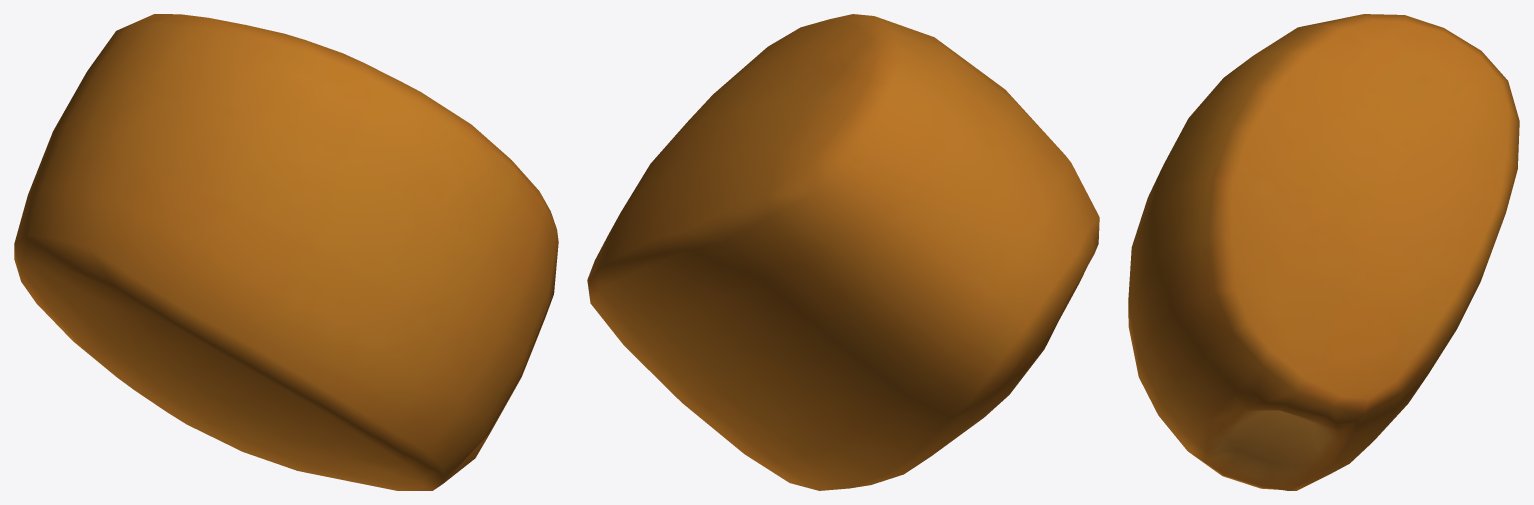
File: ref_bffriedsteamedbun.glb
3 views of the same model, side by side, from view 1: azimuth 30°, elevation 25°; view 2: azimuth 150°, elevation 25°; view 3: azimuth 270°, elevation 25° (orthographic). The views are drawn at different scales.
Parts seen in each view (by area): view 1: ref_bffriedsteamedbun_part0; view 2: ref_bffriedsteamedbun_part0; view 3: ref_bffriedsteamedbun_part0.
Part boxes in pixels (<box>): ref_bffriedsteamedbun_part0: <box>14,14,558,490</box>; ref_bffriedsteamedbun_part0: <box>587,14,1099,490</box>; ref_bffriedsteamedbun_part0: <box>1128,14,1519,490</box>.
Size of the model in its own units: 1 by 0.9366 by 0.8054.
Materials: 1 (1 with a texture image).
